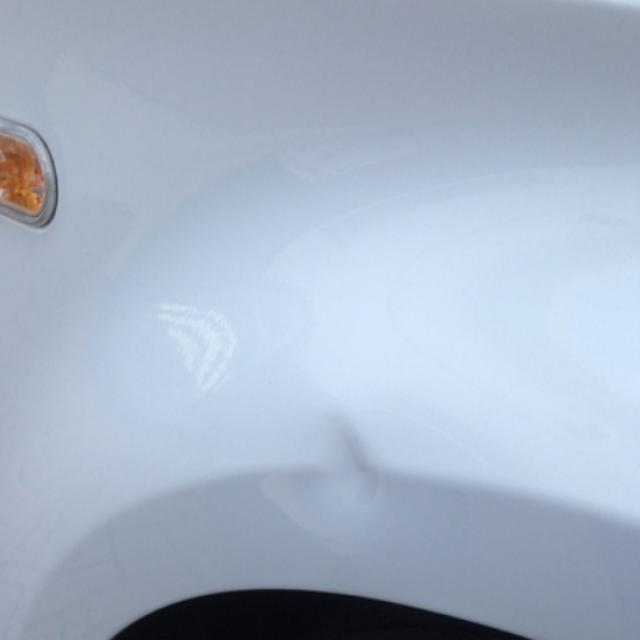dents: (264, 366, 433, 583)
